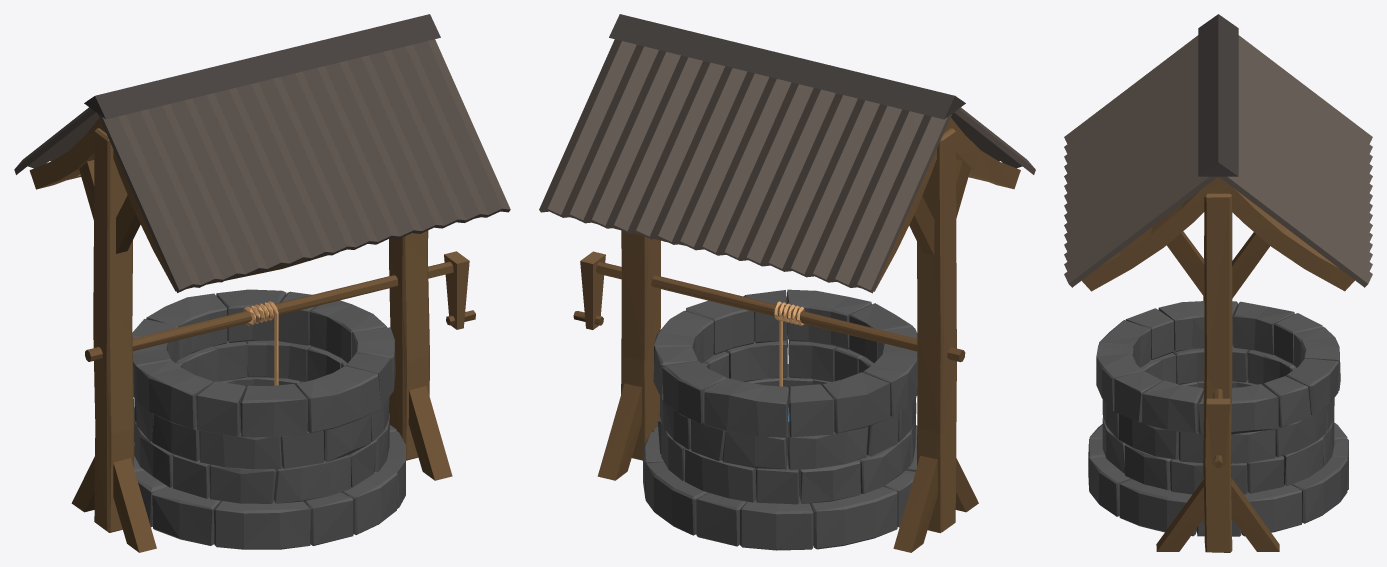
The model's file is Mesh_Props_Well_01.FBX.
3 views of the same model, side by side, from view 1: azimuth 30°, elevation 25°; view 2: azimuth 150°, elevation 25°; view 3: azimuth 270°, elevation 25° (orthographic). The views are drawn at different scales.
Visible parts, largest first — view 1: Mesh_Props_Well_01; view 2: Mesh_Props_Well_01; view 3: Mesh_Props_Well_01.
Part boxes in pixels (x1,y1,x2,y2): Mesh_Props_Well_01: [14, 14, 510, 552]; Mesh_Props_Well_01: [539, 14, 1035, 552]; Mesh_Props_Well_01: [1064, 14, 1372, 552].
Size of what is drawn, in the model's own units: 219 by 167 by 236.
